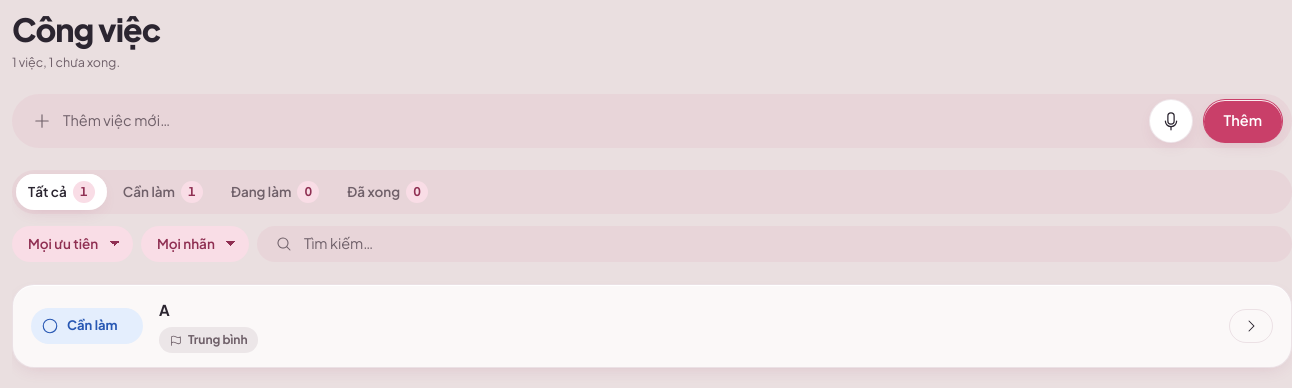
it: TasksPage › clicking the status control cycles Cần làm → Đang làm → Đã xong
Expected: the text "Cần làm" is shown, [67, 316, 118, 336]
Click the button with aria-label "Đổi trạng thái: A" at (87, 326), box [31, 308, 143, 344]
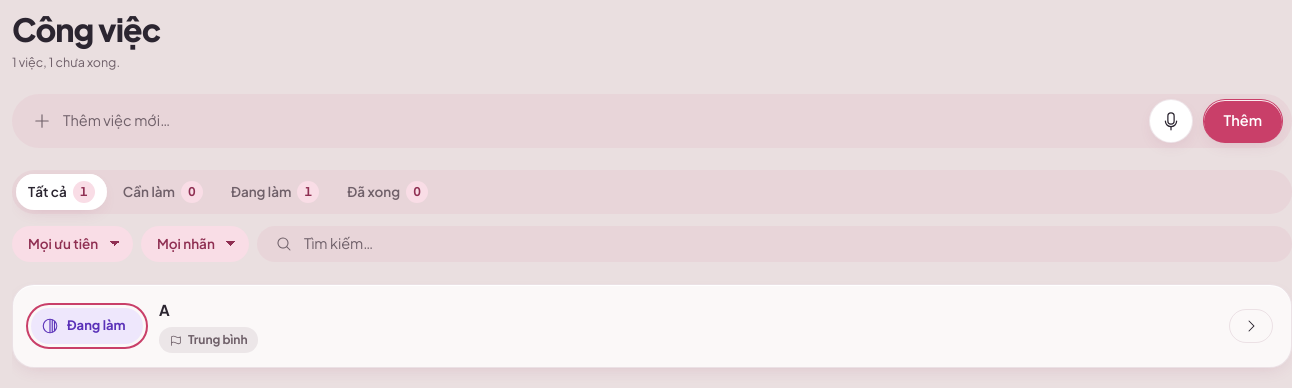
Expected: the text "Đang làm" is shown, [67, 316, 126, 336]
Click the button with aria-label "Đổi trạng thái: A" at (87, 326), box [31, 308, 143, 344]
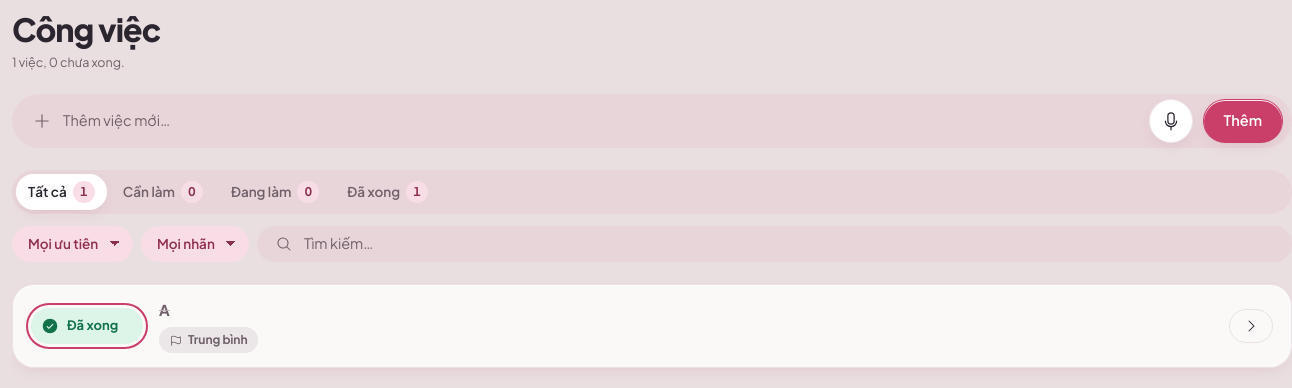
Expected: the text "Đã xong" is shown, [67, 316, 118, 336]
